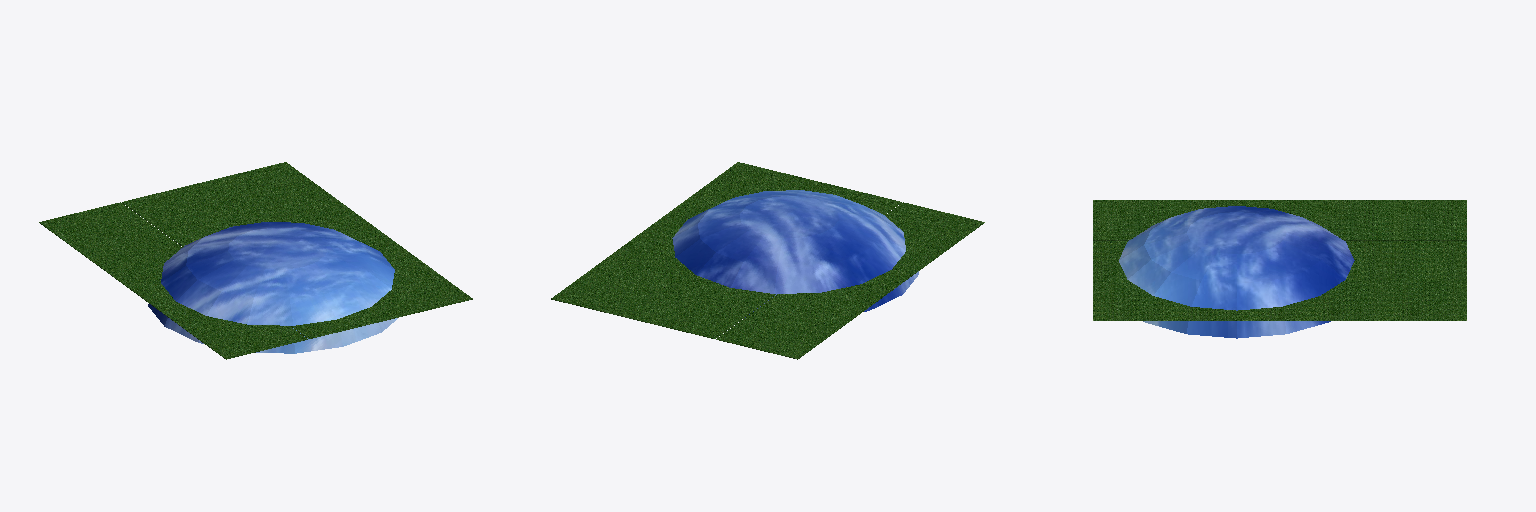
3 views of the same model, side by side, from view 1: azimuth 30°, elevation 25°; view 2: azimuth 150°, elevation 25°; view 3: azimuth 270°, elevation 25° (orthographic).
Parts seen in each view (by area): view 1: floor02__grassonearth, floor02__sky; view 2: floor02__grassonearth, floor02__sky; view 3: floor02__grassonearth, floor02__sky.
Boxes of the visible parts, x1,y1,x2,y2 form: floor02__grassonearth: [39, 162, 472, 359]; floor02__sky: [148, 222, 397, 353]; floor02__grassonearth: [551, 162, 984, 359]; floor02__sky: [672, 190, 918, 317]; floor02__grassonearth: [1093, 200, 1466, 320]; floor02__sky: [1119, 206, 1354, 338].
Size of the model in its own units: 6391 by 1342 by 8385.
Materials: 42 (37 with a texture image).